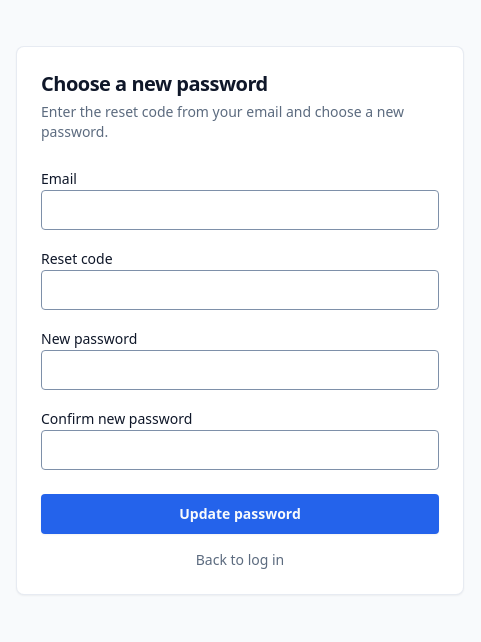
Test: ResetPasswordPage › shows the backend reset error when the code is rejected
Type "sarah@example.com" into the field labelled "Email". click: (240, 210)
box: [41,190,439,230]
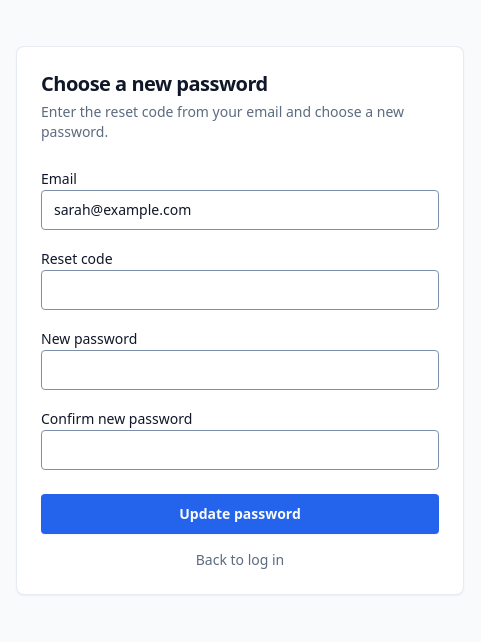
Type "123456" into the field labelled "Reset code". click: (240, 290)
box: [41,270,439,310]
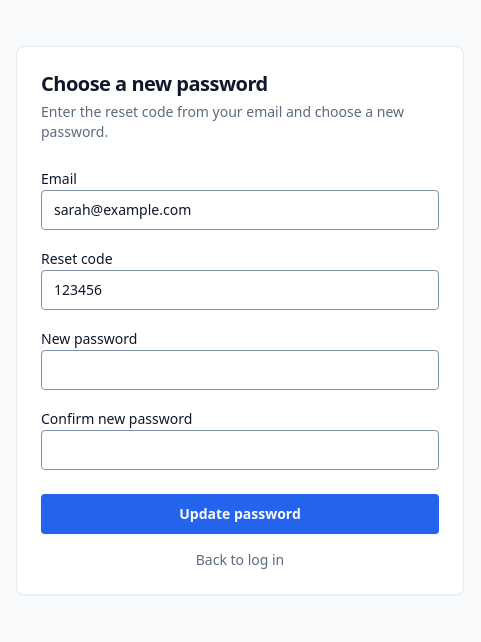
Type "CorrectHorse1!" into the password field labelled "New password". click: (240, 370)
box: [41,350,439,390]
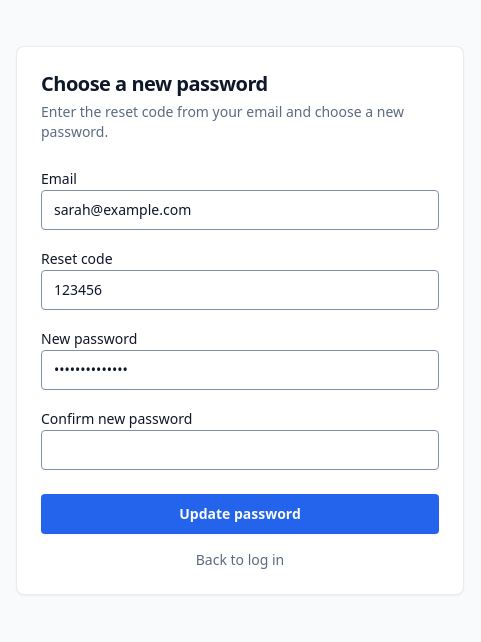
Type "CorrectHorse1!" into the password field labelled "Confirm new password". click: (240, 450)
box: [41,430,439,470]
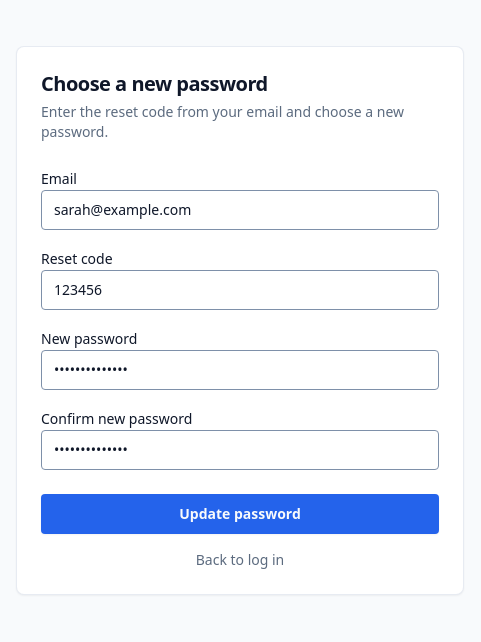
Click the button "Update password". click: (240, 514)
box: [41,494,439,534]
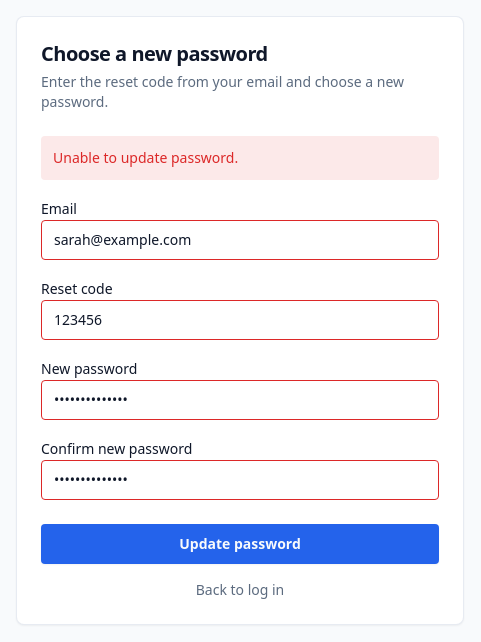
Check: the text "Unable to update password." is shown, box [41,136,439,180]
Check: the message reads "Unable to update password.", box [53,148,238,166]
